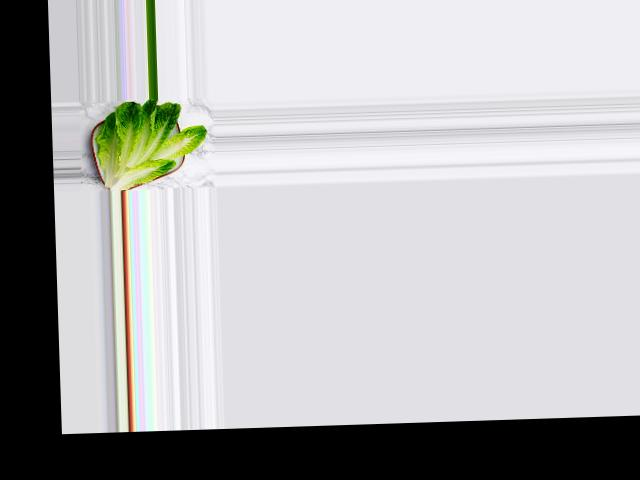lettuce: (88, 96, 210, 188)
